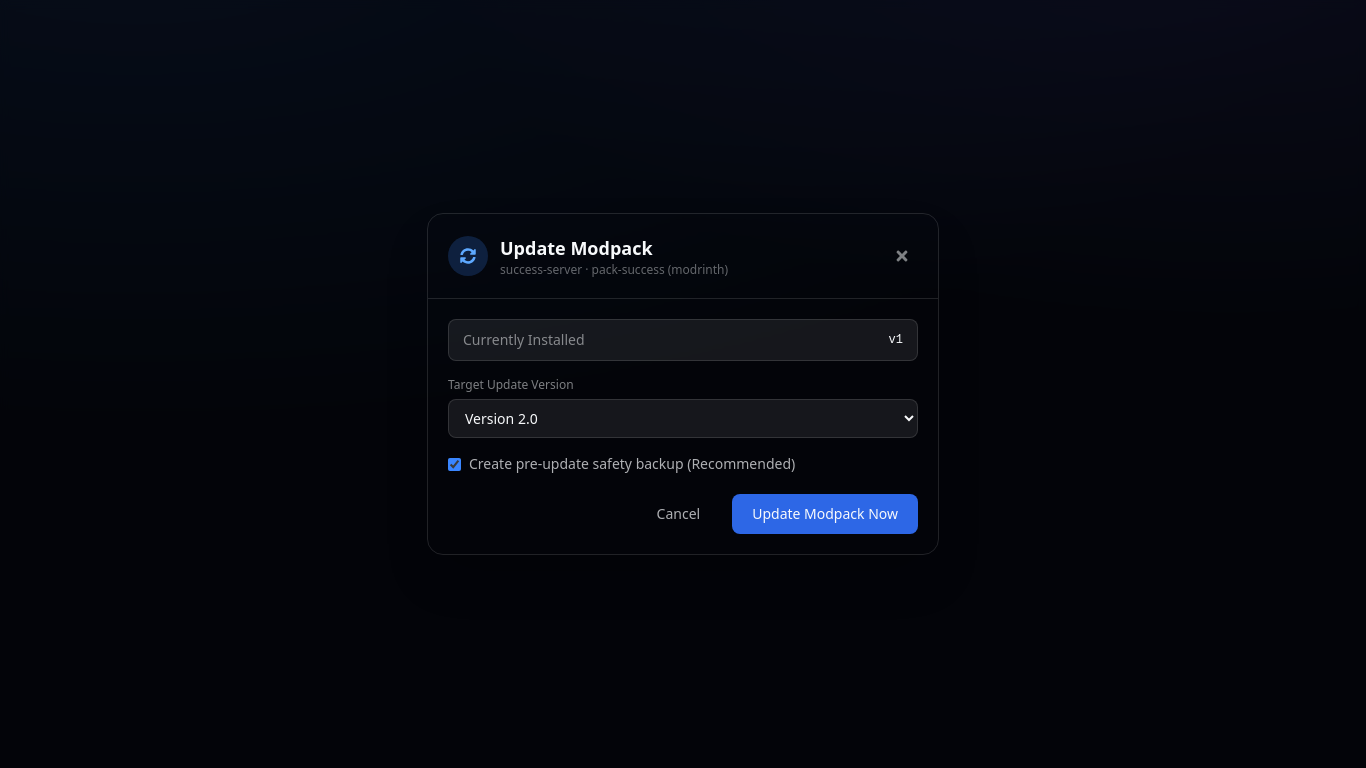
ModpackUpdateModal Adversarial & Contract Resilience › submits update request and displays full success summary with inspection details
The width and height of the screenshot is (1366, 768).
Click the button "Update Modpack Now".
click(825, 514)  # box [732, 494, 918, 534]
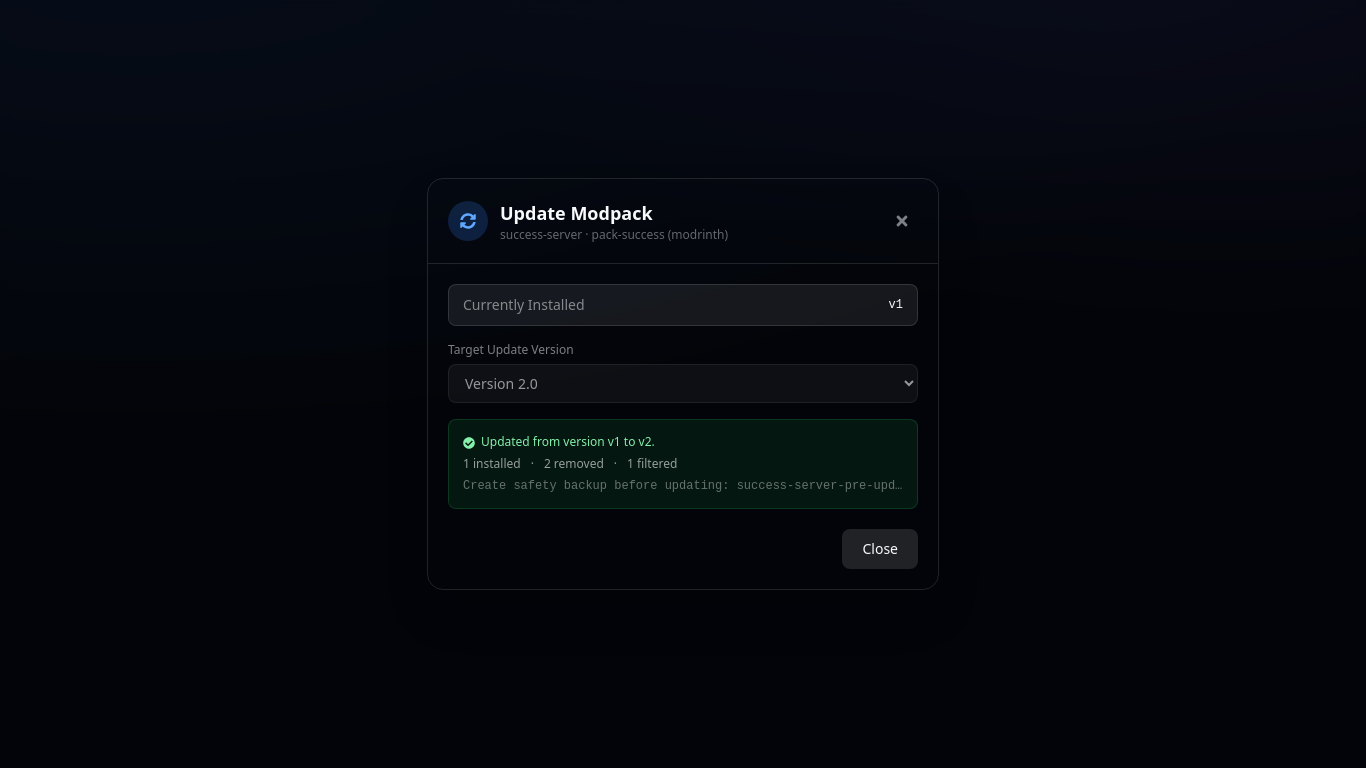
Check: the text "2 removed" is shown, box [544, 456, 604, 472]
Check: the text "1 installed" is shown, box [463, 456, 521, 472]
Check: the text "1 filtered" is shown, box [627, 456, 677, 472]
